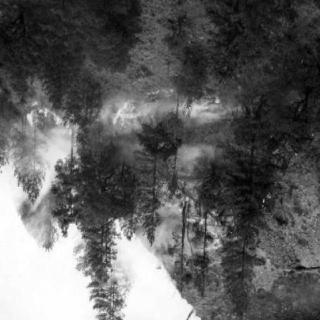Fire: (176, 200, 226, 252)
